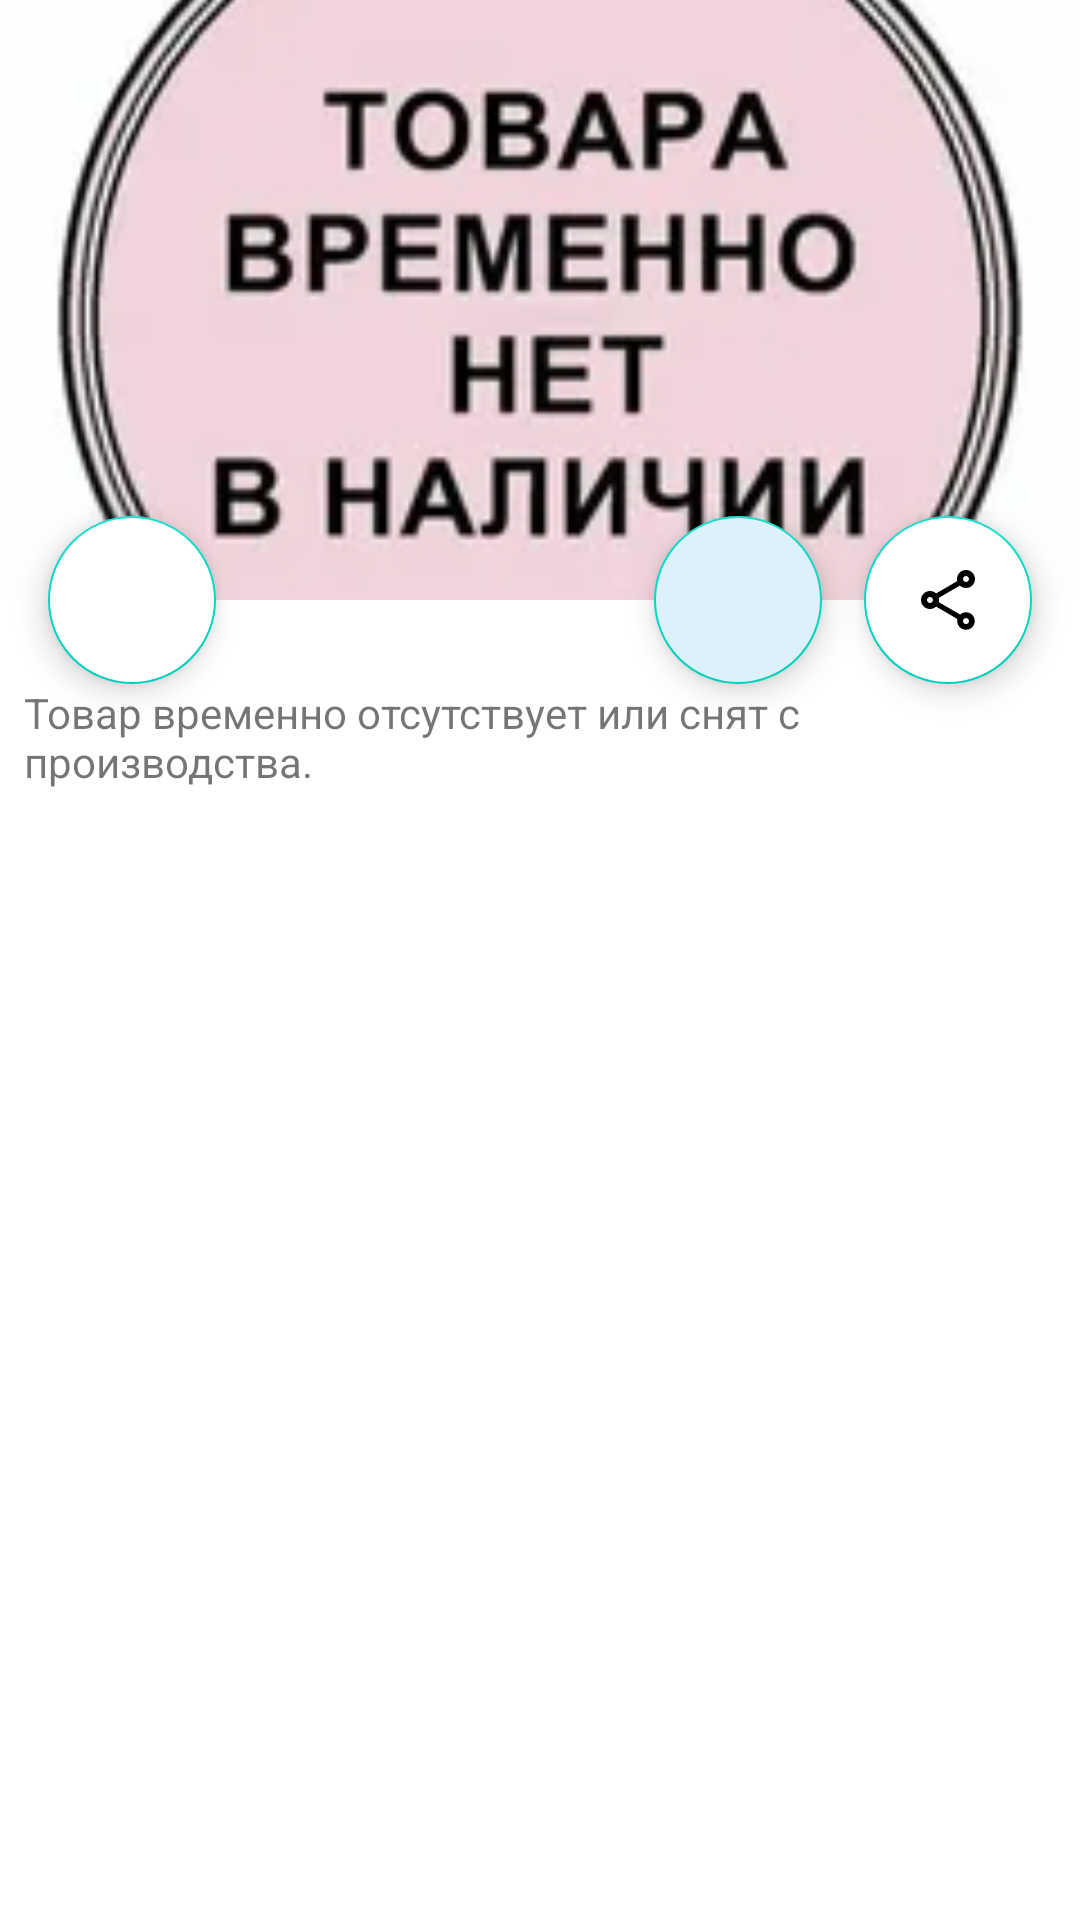

Where icons sit on this 1080*1920 app screen, as box(x1, y1, x2, y2):
share: box(864, 516, 1032, 684)
